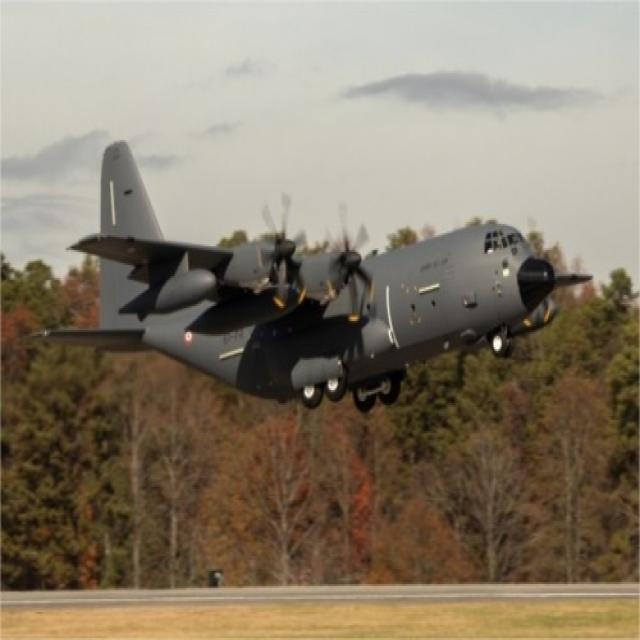C130: (16, 100, 612, 436)
